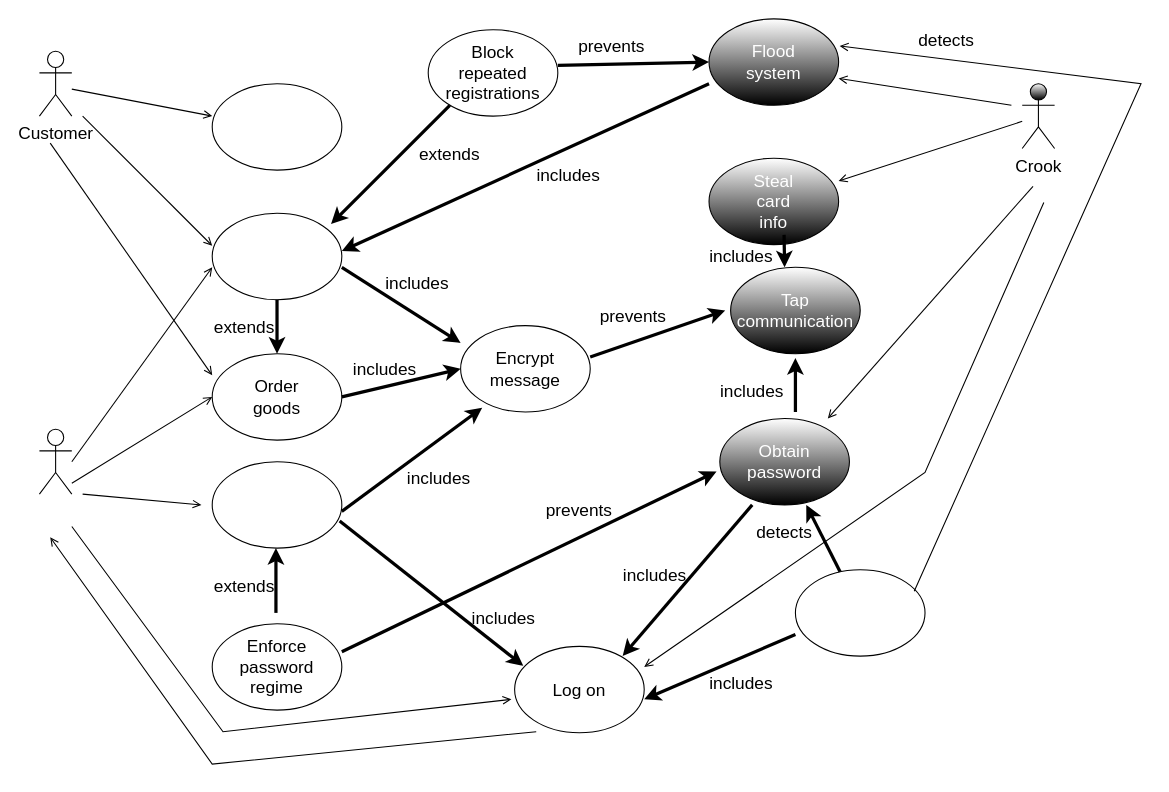
This 1169x792 diagram has some shape labels left out. The shapes that lost their labels are listed below. From the top down, each one's centre as x and y in pixels, then its label:
At pixel 276 126: "Browse catalog".
At pixel 276 256: "Register customer".
At pixel 55 461: "Operator".
At pixel 276 504: "Change password".
At pixel 859 612: "Monitor system".
